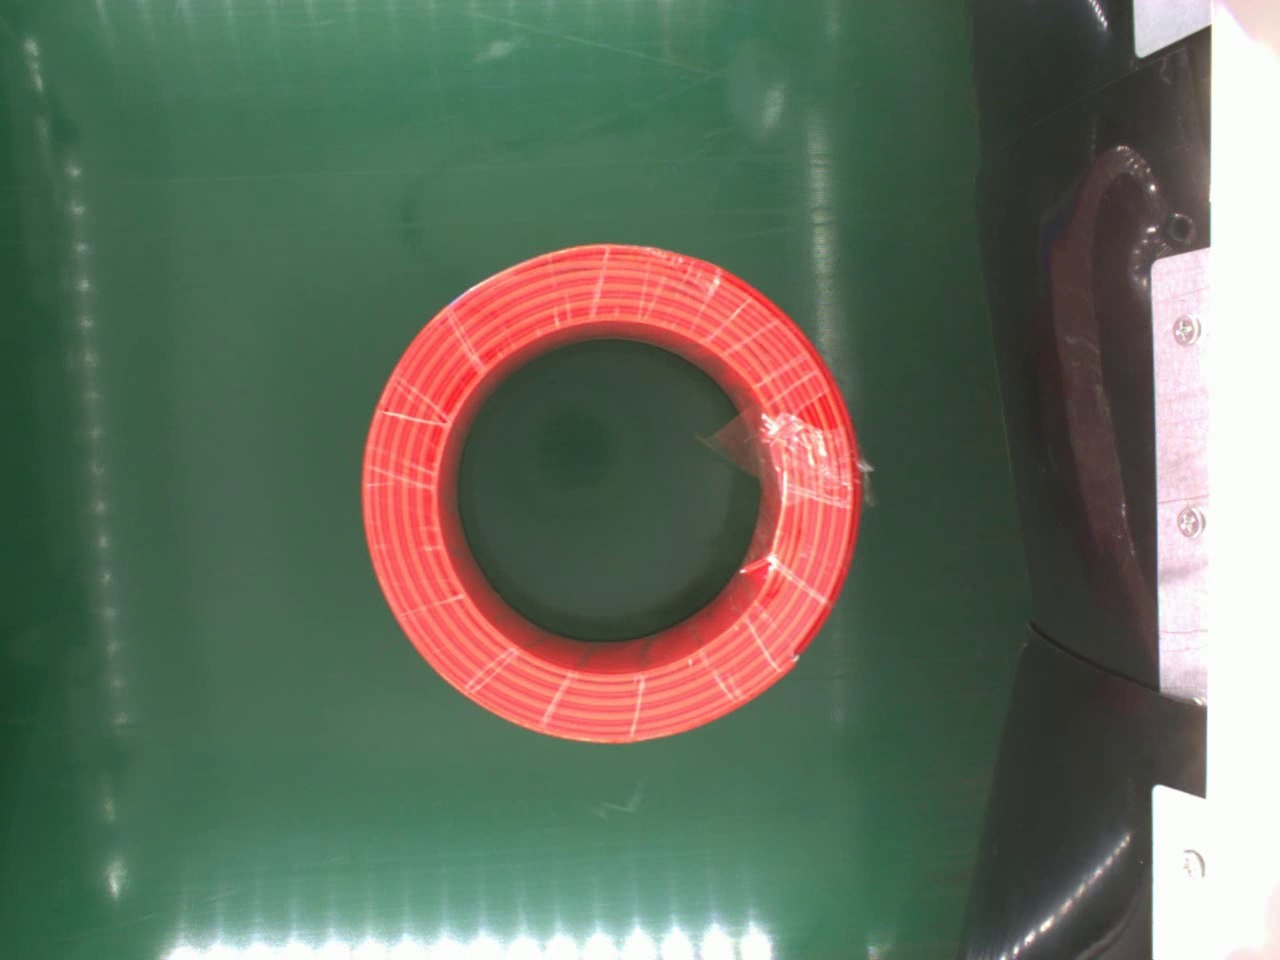red: (359, 236, 875, 745)
